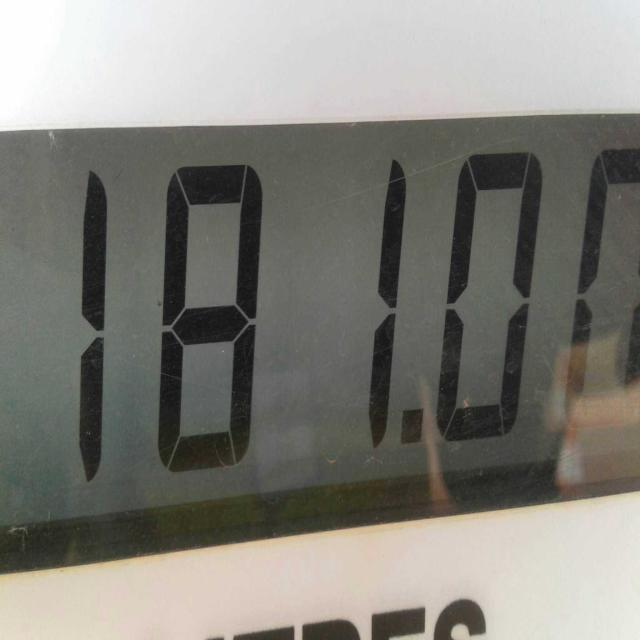.: (400, 404, 430, 468)
0: (434, 142, 562, 462), (575, 147, 640, 400)
1: (65, 166, 116, 483), (378, 161, 404, 450)
8: (154, 162, 265, 458)
